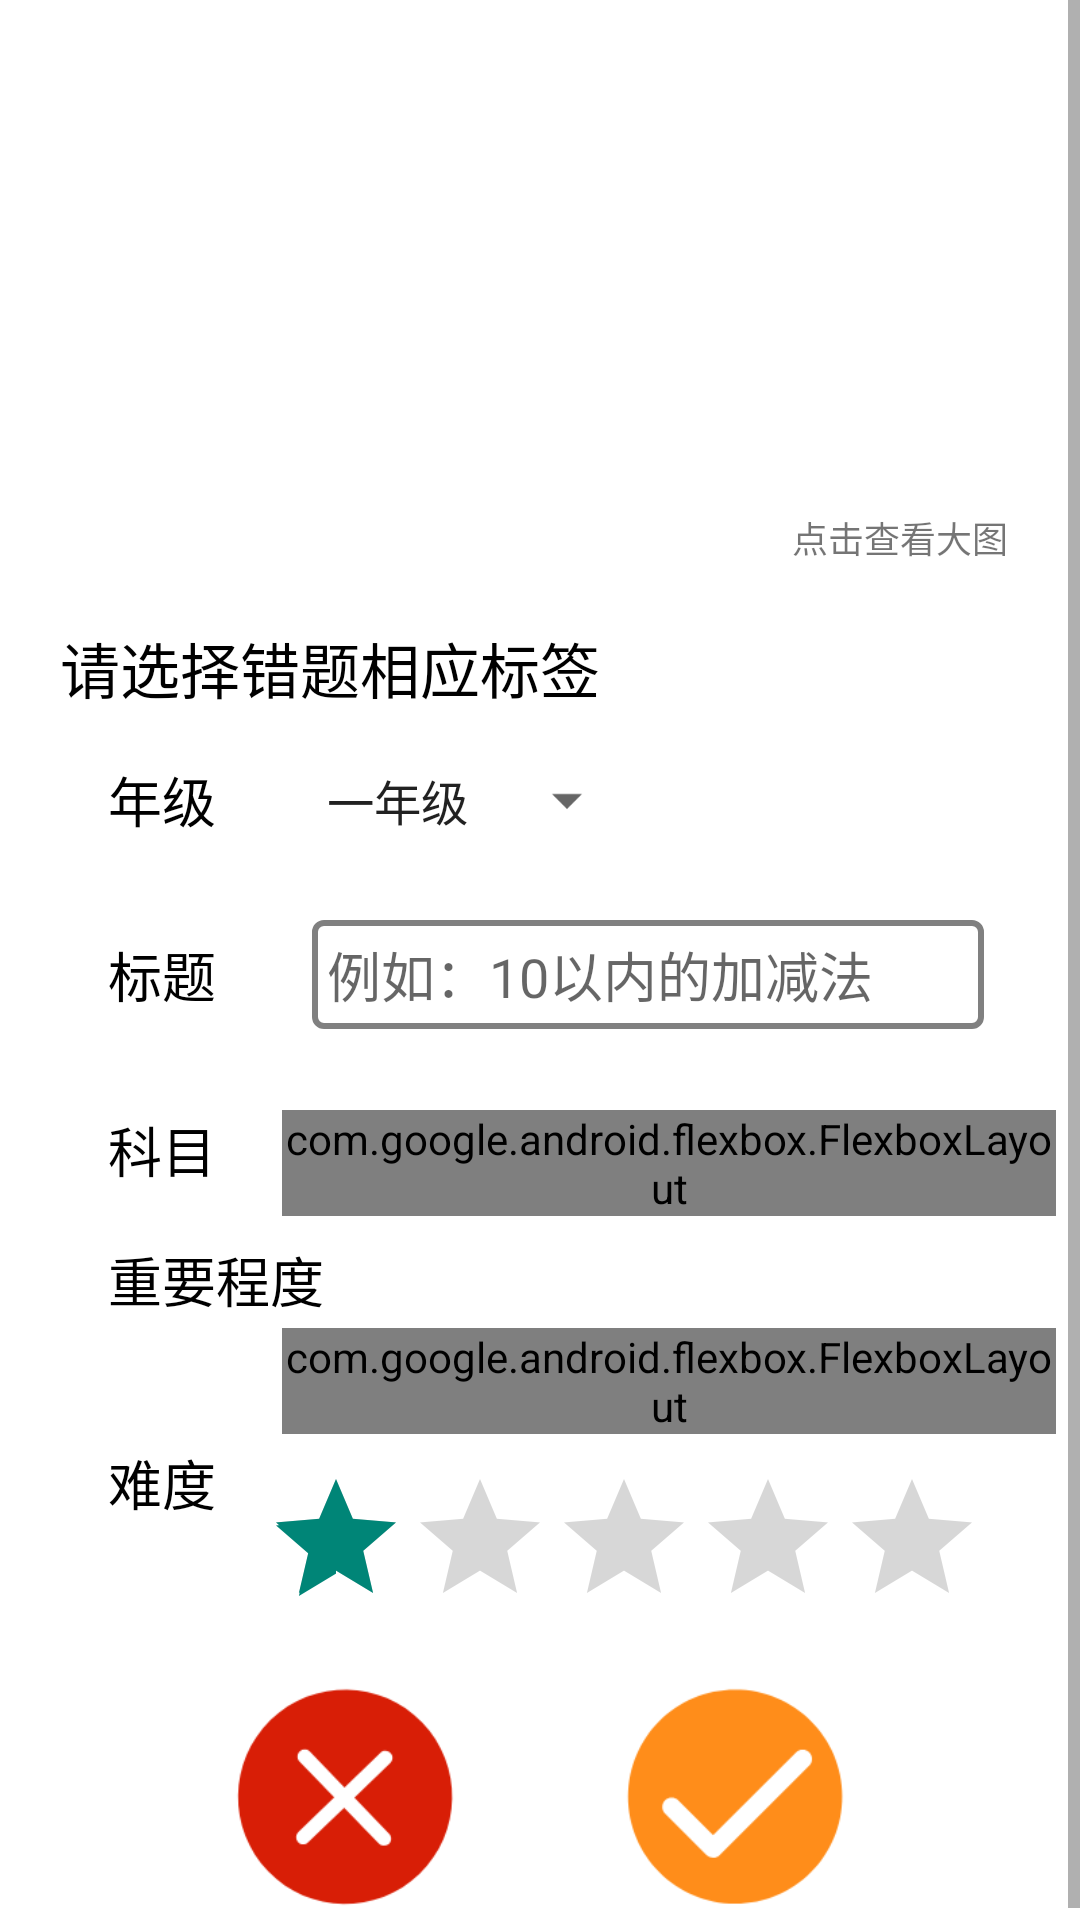

Where to tap for icons on this 1080x1920 app screen, as (x,y):
savesub cancel: (345,1797)
savesub sure: (735,1796)
